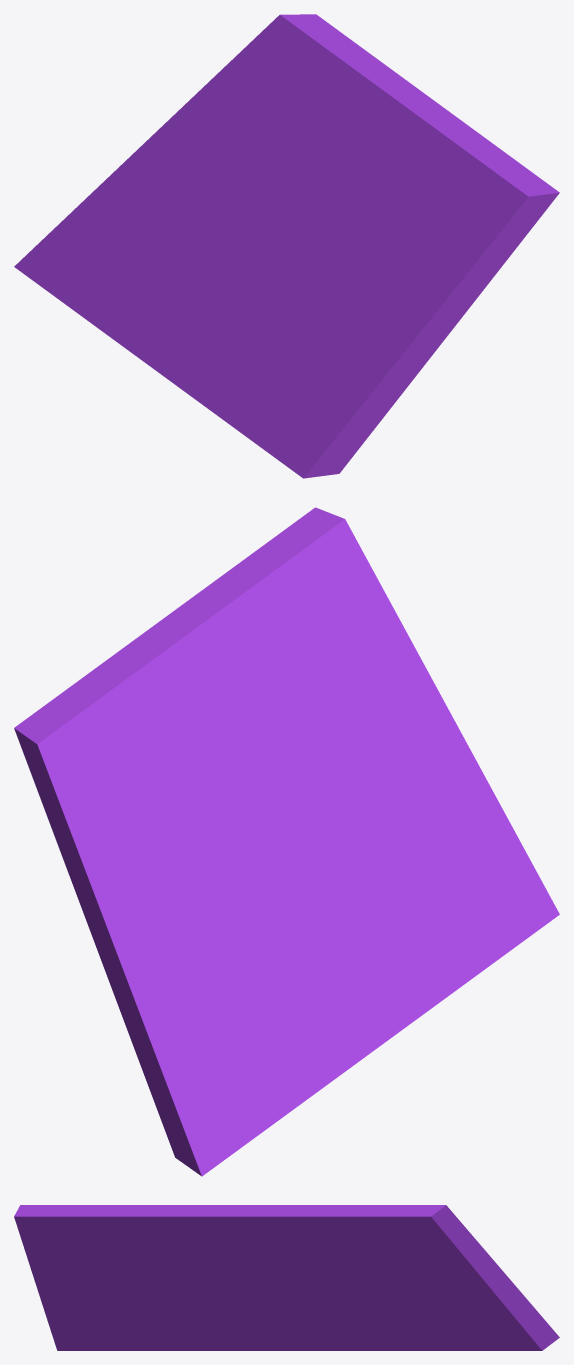
File: Window_116_chunks.fbx
3 views of the same model, one above another, from view 1: azimuth 30°, elevation 25°; view 2: azimuth 150°, elevation 25°; view 3: azimuth 270°, elevation 25° (orthographic). The views are drawn at different scales.
Visible parts, largest first — view 1: Window_116_3, Window_116_1, Window_116_0, Window_116_2; view 2: Window_116_1, Window_116_3, Window_116_0, Window_116_2; view 3: Window_116_3, Window_116_1, Window_116_2, Window_116_0.
Boxes of the visible parts, box(x1,y1,x2,y2) form: Window_116_3: box(286, 102, 559, 397); Window_116_1: box(14, 41, 298, 361); Window_116_0: box(144, 246, 401, 478); Window_116_2: box(252, 14, 444, 209); Window_116_1: box(54, 789, 363, 1176); Window_116_3: box(173, 507, 497, 834); Window_116_0: box(295, 800, 559, 1058); Window_116_2: box(14, 612, 260, 836); Window_116_3: box(14, 1205, 251, 1312); Window_116_1: box(282, 1219, 559, 1350); Window_116_2: box(212, 1205, 459, 1291); Window_116_0: box(45, 1285, 348, 1350).
Size of the model in its own units: 720 by 763 by 1750.
